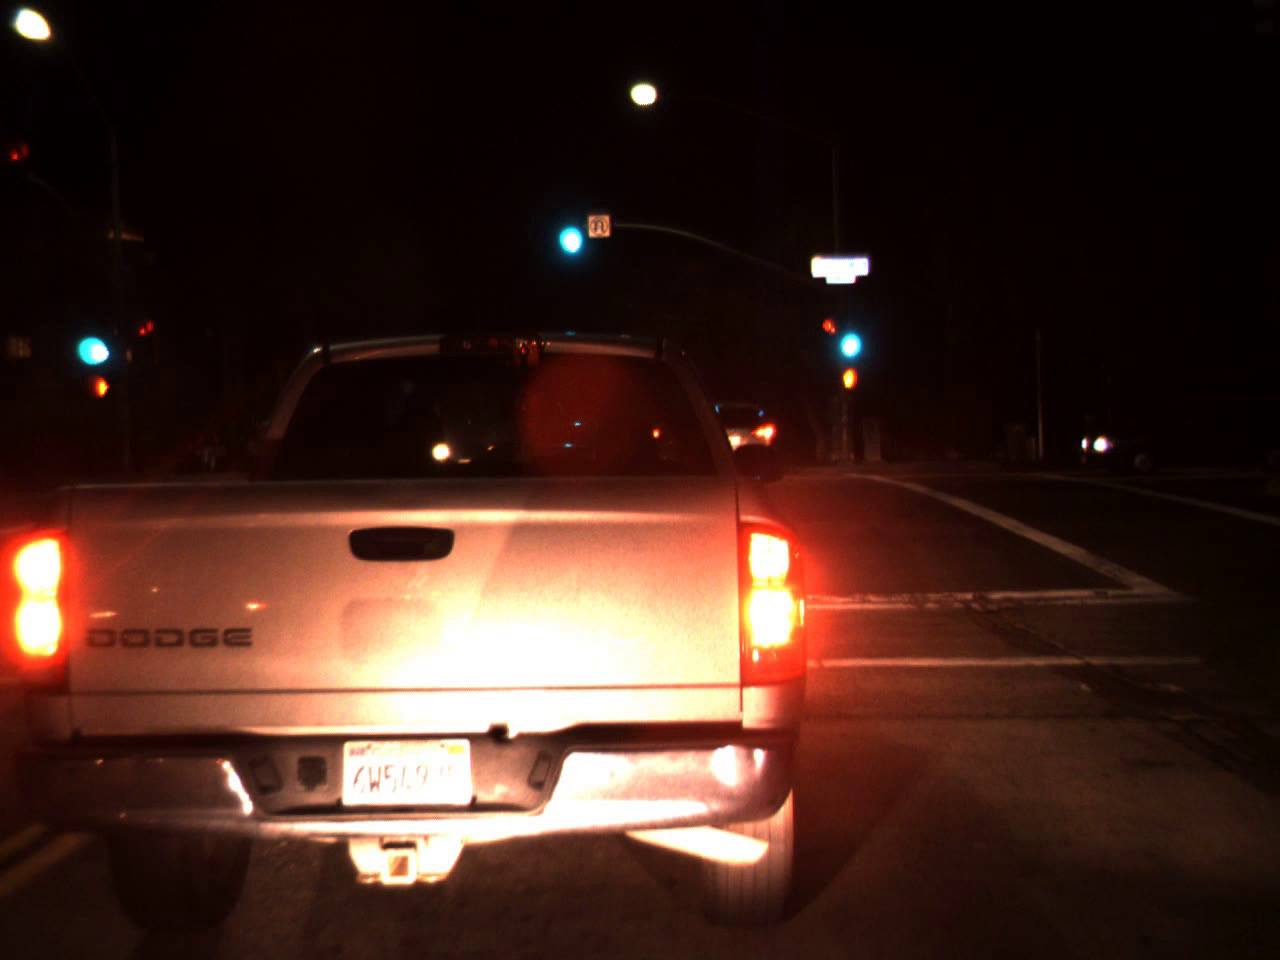go: (68, 299, 111, 377), (549, 192, 588, 264), (831, 299, 865, 368)
